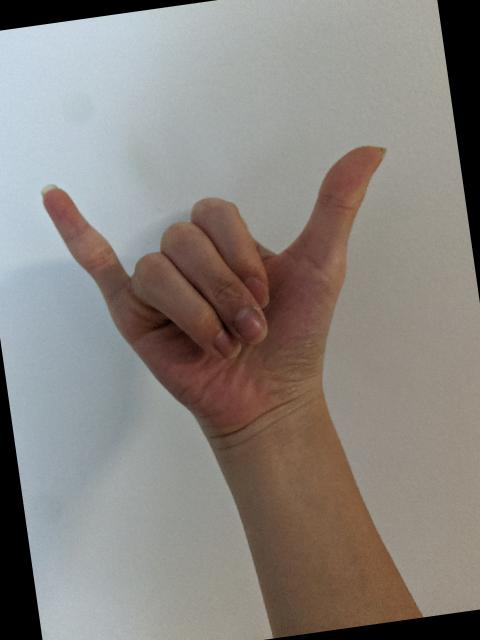Y: (34, 133, 427, 455)
